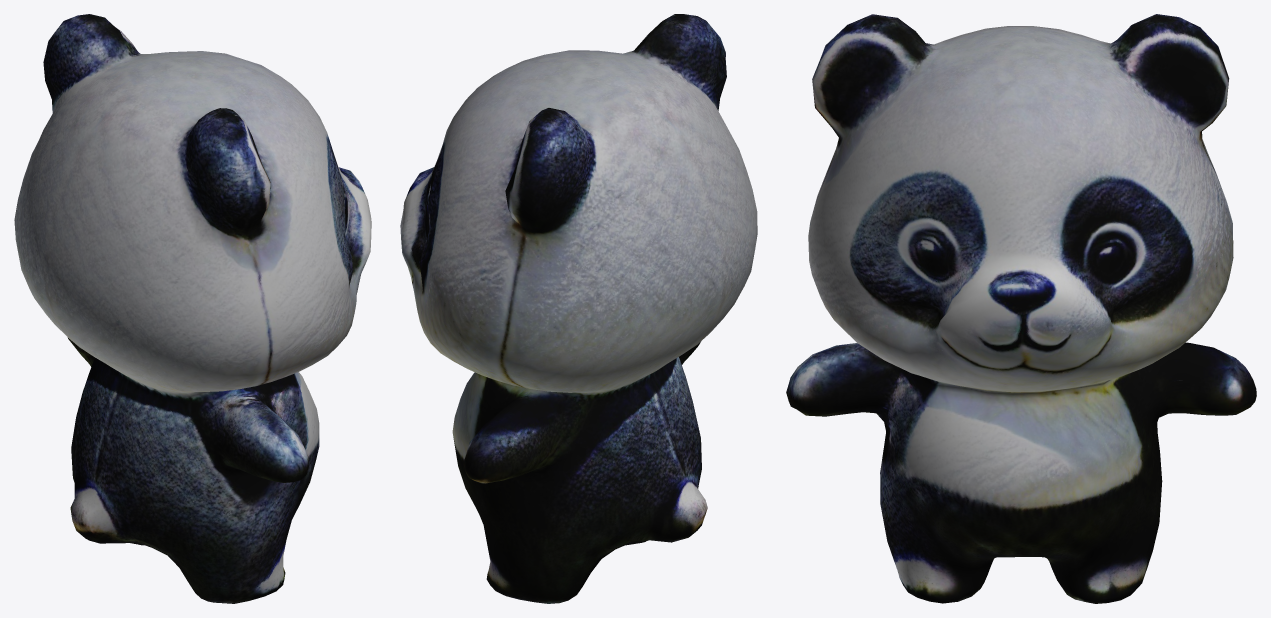
File: panda.obj
3 views of the same model, side by side, from view 1: azimuth 30°, elevation 25°; view 2: azimuth 150°, elevation 25°; view 3: azimuth 270°, elevation 25° (orthographic). The views are drawn at different scales.
Visible parts, largest first — view 1: mesh; view 2: mesh; view 3: mesh.
Boxes of the visible parts, <box> form: mesh: <box>14,14,371,603</box>; mesh: <box>400,14,757,603</box>; mesh: <box>786,14,1256,603</box>.
Bounding box in the file's own units: 0.6432 × 0.9989 × 0.7836.
